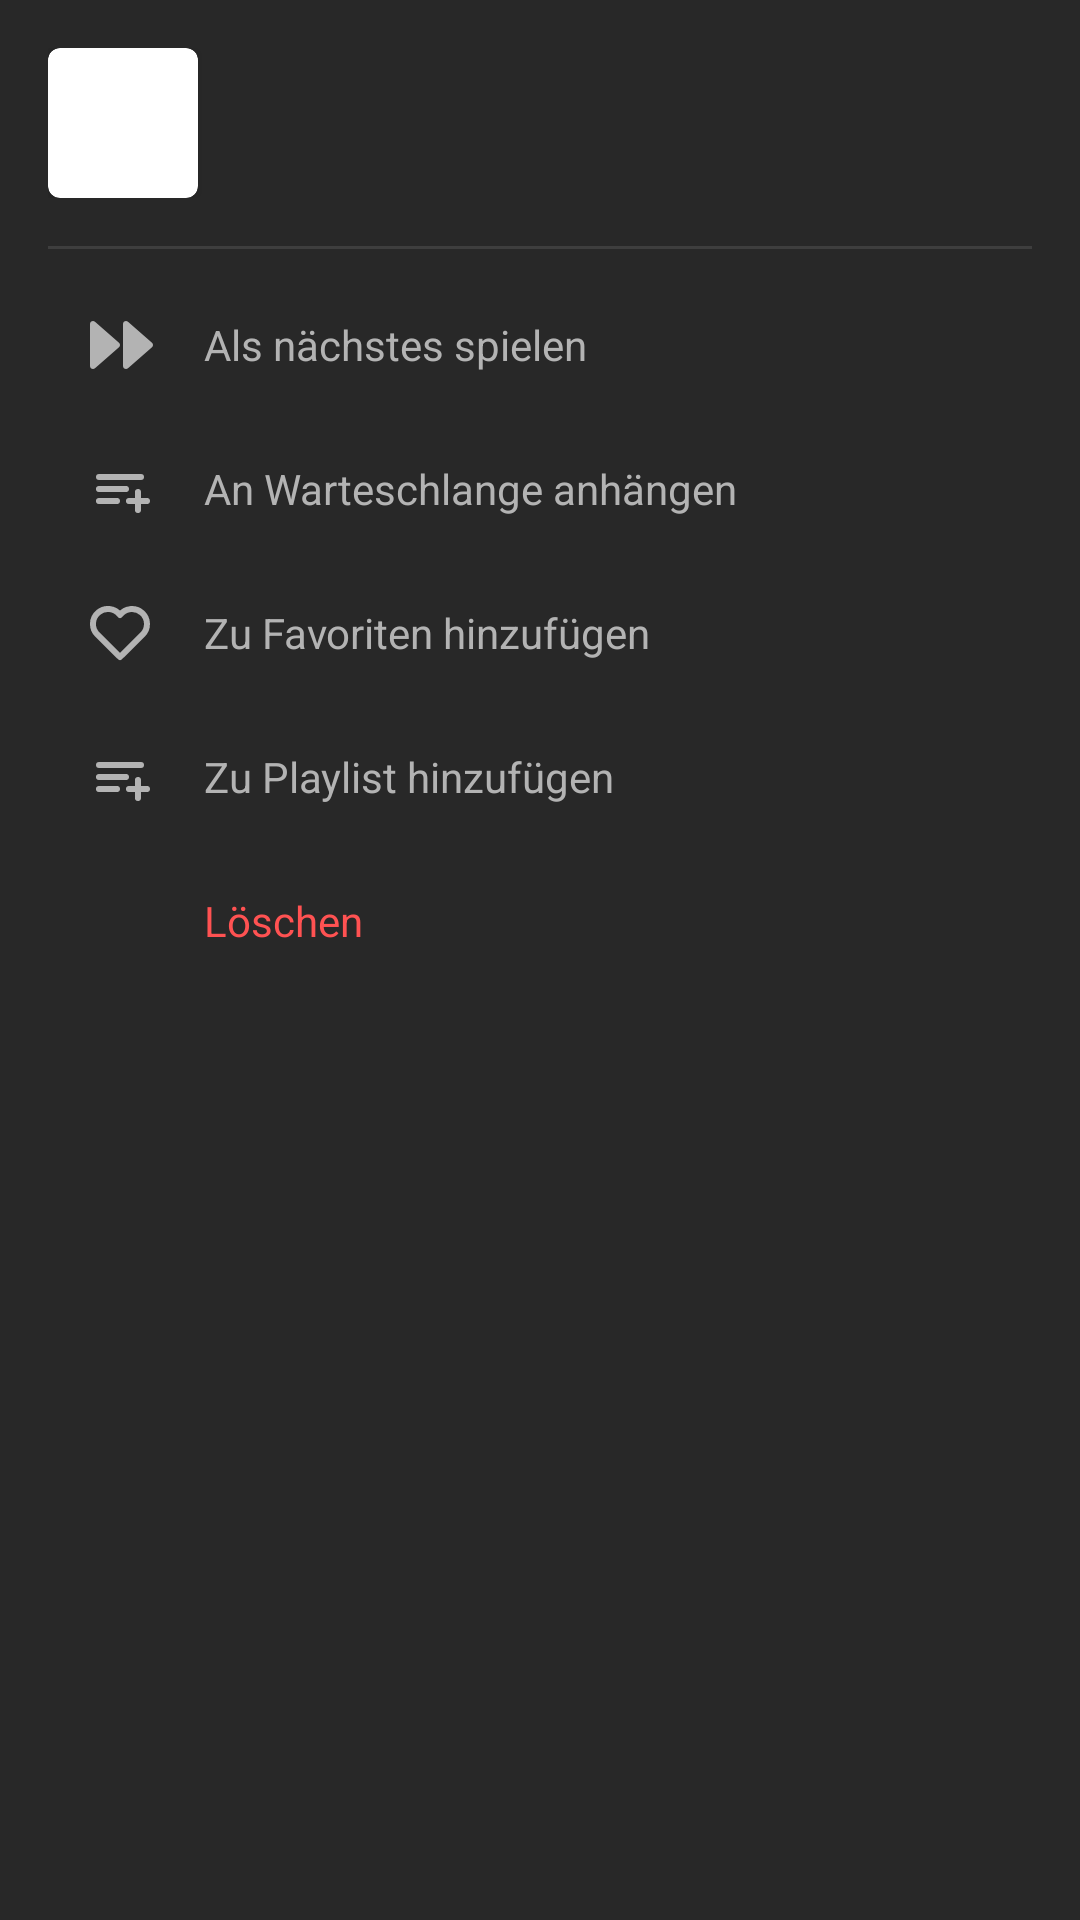

Icons on this 1080x1920 Android screen, each with the point to tap as point (x, y):
heart: point (120, 633)
player track next: point (121, 345)
playlist add: point (123, 493), point (123, 781)
